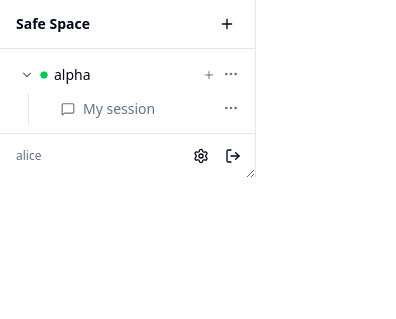
Test: Sidebar › groups refresh, suspend, and delete under a Lifecycle section
Expected: the text "alpha" is shown, [54, 65, 91, 84]
Step 1. Click the 1st button named "Actions" → (231, 74), box [219, 62, 243, 86]
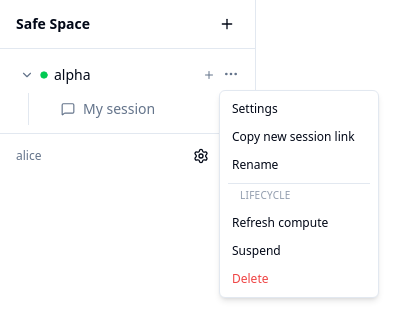
Expected: the text "Lifecycle" is shown, [240, 188, 290, 202]
Expected: the menu item "Refresh compute" is shown, [220, 209, 378, 237]
Expected: the menu item "Suspend" is shown, [220, 237, 378, 265]
